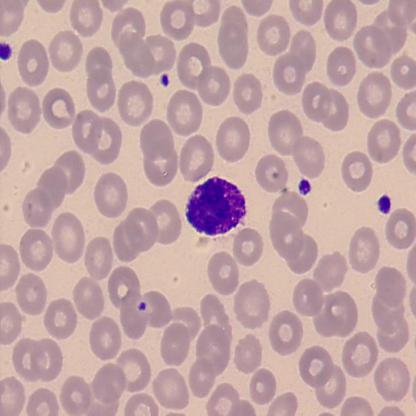Basophil: (183, 172, 248, 240)
